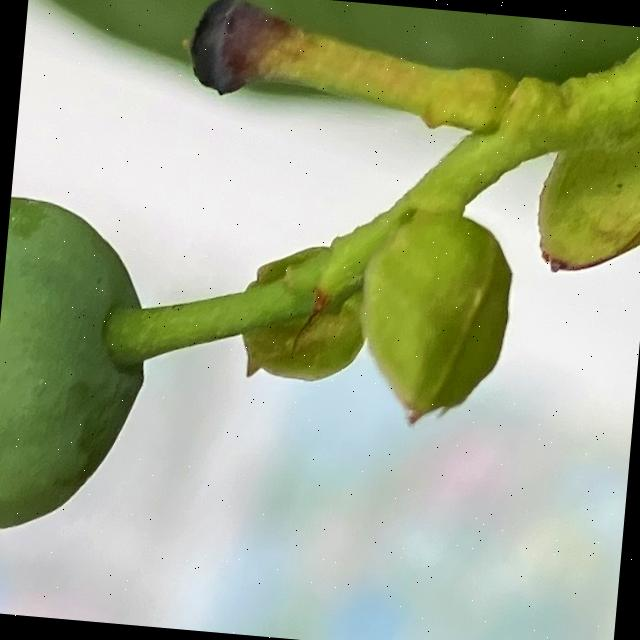Blueberries: (0, 193, 161, 549)
